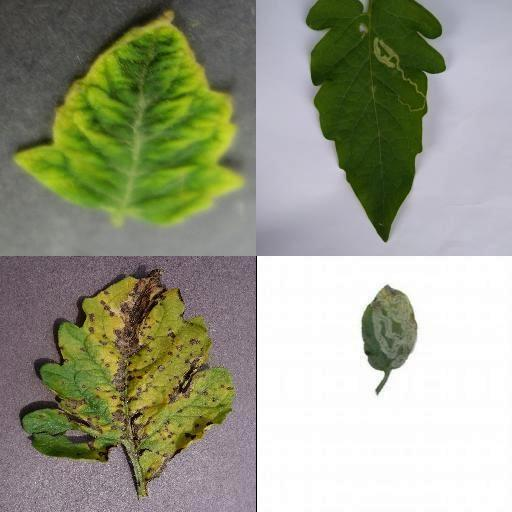Leaf Miner: (305, 0, 448, 242), (363, 285, 420, 373)
Septoria: (23, 268, 234, 476)
Yellow Leaf Curl Virus: (13, 9, 245, 225)
